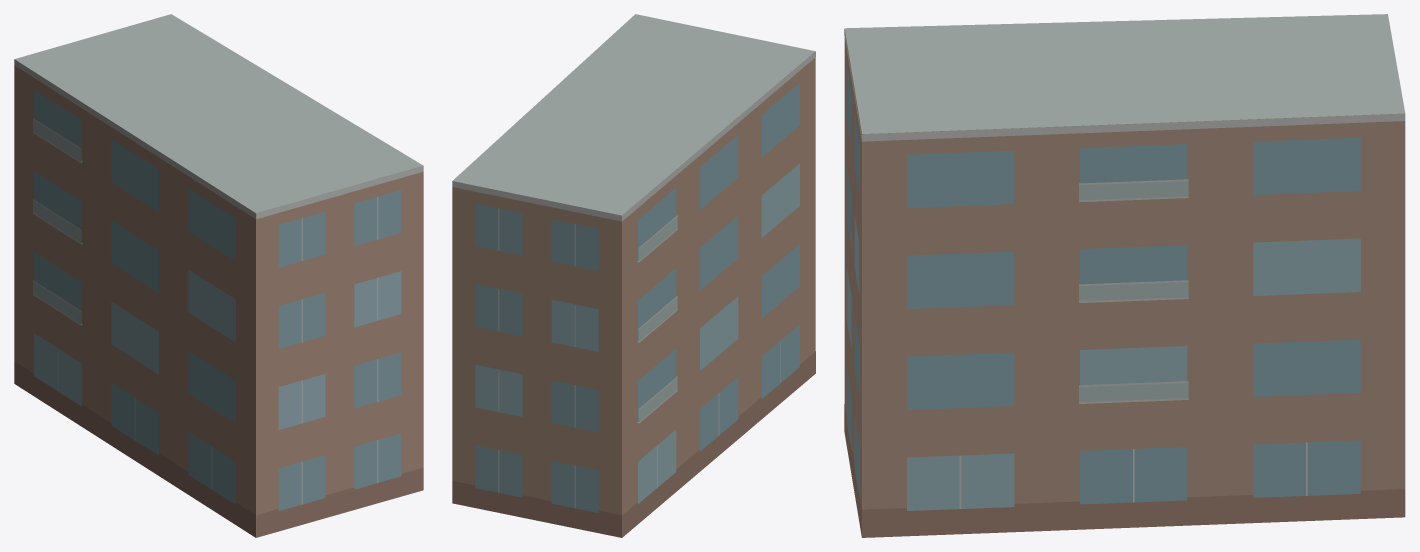
File: survey-upis-33023377.glb
The picture shows the model from 3 angles, left to right: view 1: azimuth 30°, elevation 25°; view 2: azimuth 150°, elevation 25°; view 3: azimuth 270°, elevation 25°; orthographic projection. The views are drawn at different scales.
Parts seen in each view (by area): view 1: survey-upis-33023377.tmp; view 2: survey-upis-33023377.tmp; view 3: survey-upis-33023377.tmp.
Part boxes in pixels (<box>): survey-upis-33023377.tmp: <box>14,14,423,537</box>; survey-upis-33023377.tmp: <box>452,14,815,537</box>; survey-upis-33023377.tmp: <box>844,14,1405,537</box>.
Size of the model in its own units: 8.37 by 13.1 by 16.5.
